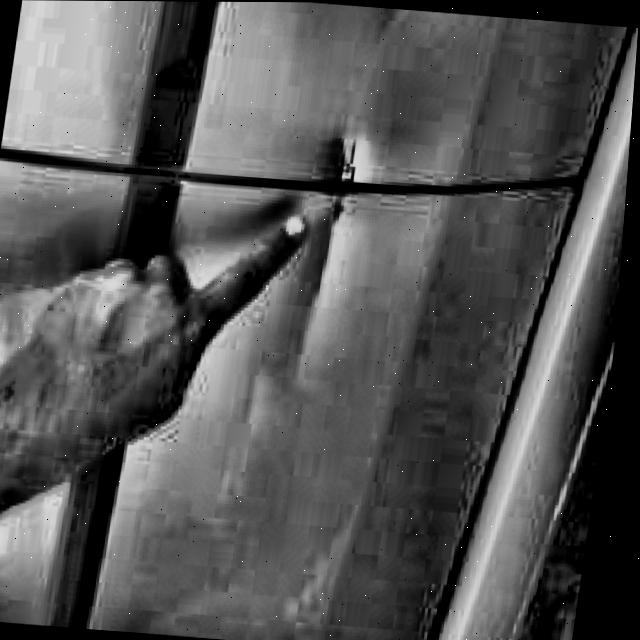door_dent: (285, 107, 379, 357)
